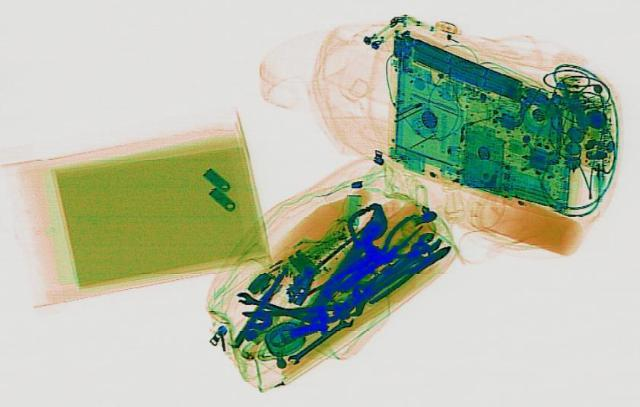Pliers: (338, 212, 452, 278)
Wrench: (280, 311, 358, 365), (228, 289, 324, 326)
